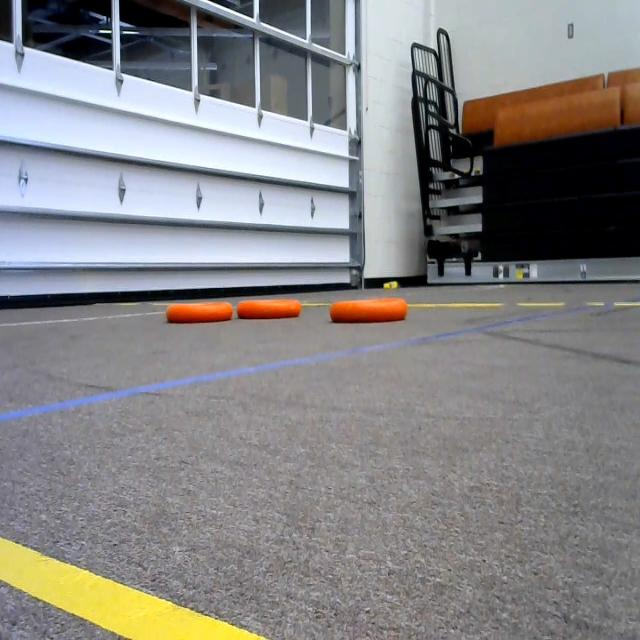note: (162, 286, 235, 337), (327, 286, 415, 324), (231, 294, 310, 331)
